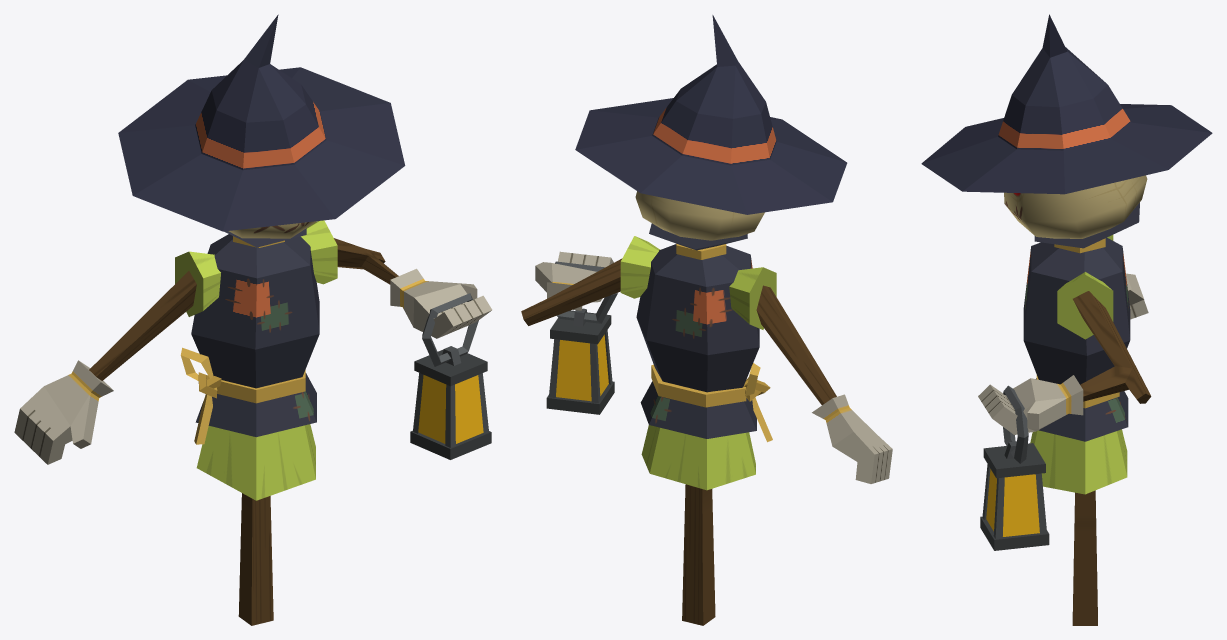
The model's file is Scarecrow 01.fbx.
3 views of the same model, side by side, from view 1: azimuth 30°, elevation 25°; view 2: azimuth 150°, elevation 25°; view 3: azimuth 270°, elevation 25° (orthographic). The views are drawn at different scales.
Visible parts, largest first — view 1: Scarecrow_01; view 2: Scarecrow_01; view 3: Scarecrow_01.
Boxes of the visible parts, x1=… form: Scarecrow_01: x1=14, y1=14, x2=492, y2=625; Scarecrow_01: x1=521, y1=15, x2=892, y2=625; Scarecrow_01: x1=921, y1=14, x2=1212, y2=625.
Size of the model in its own units: 162 by 236 by 103.
